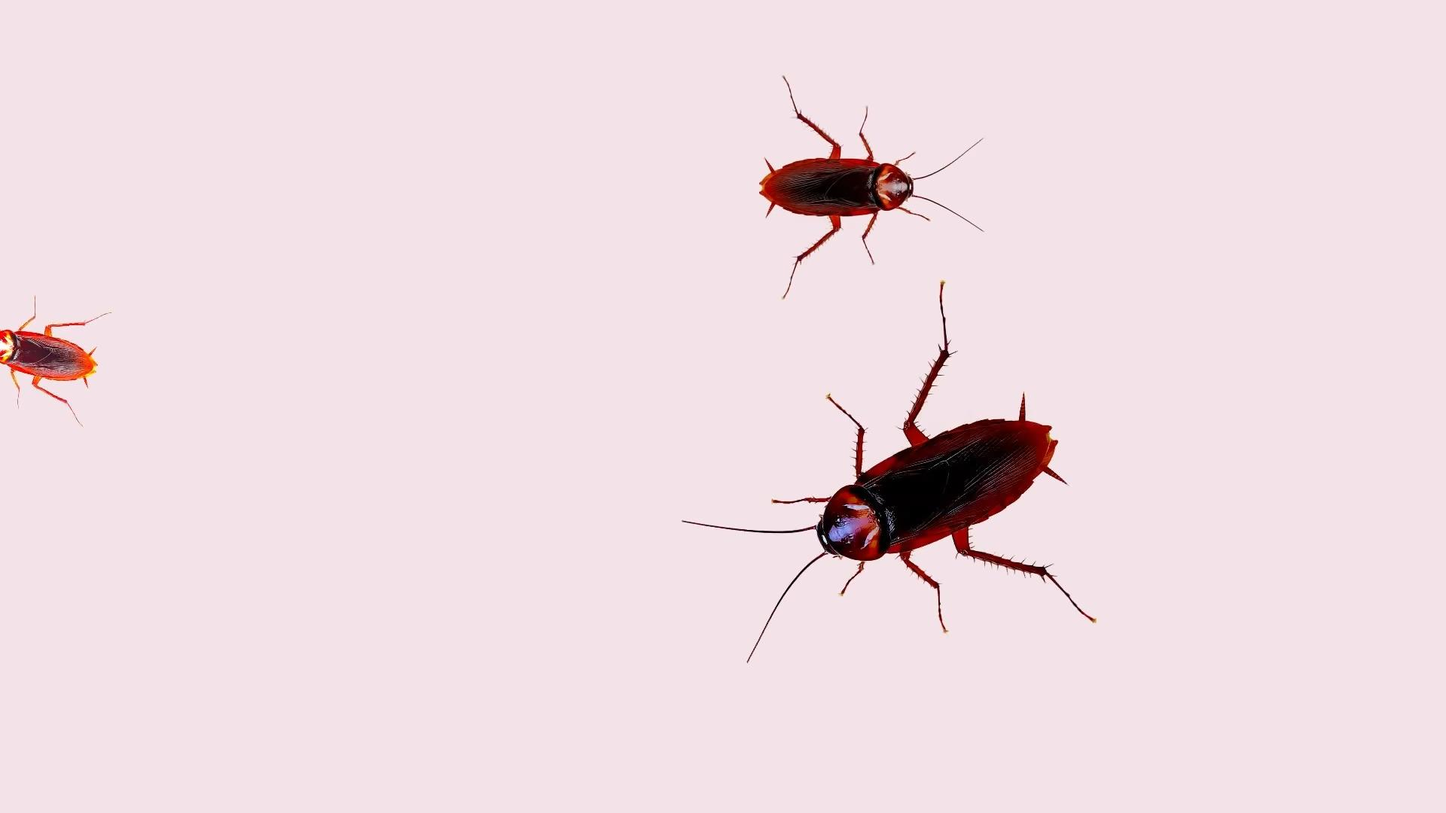cockroach: (666, 317, 1103, 632), (732, 69, 983, 300), (0, 298, 109, 426)
